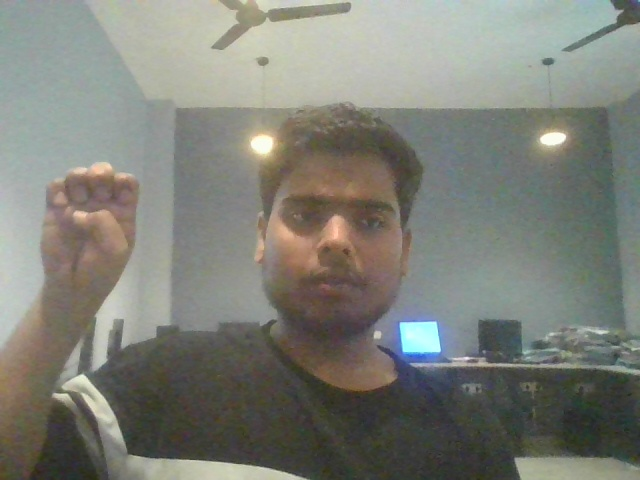E: (10, 145, 172, 315)
